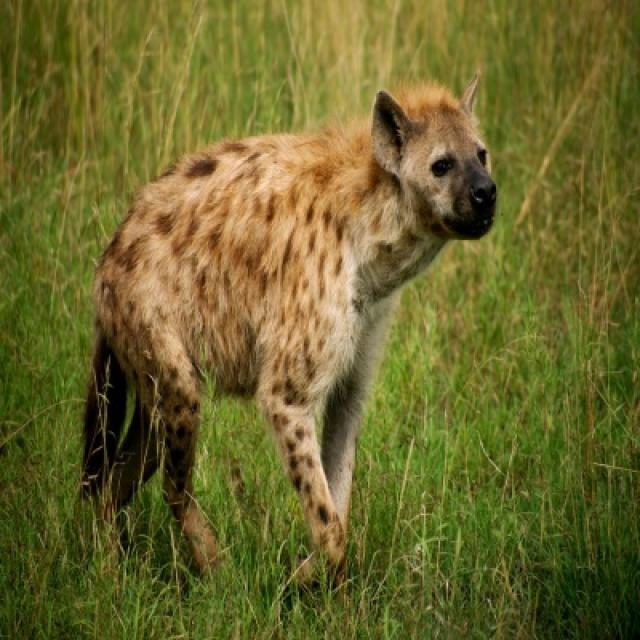hyena: (83, 77, 496, 565)
